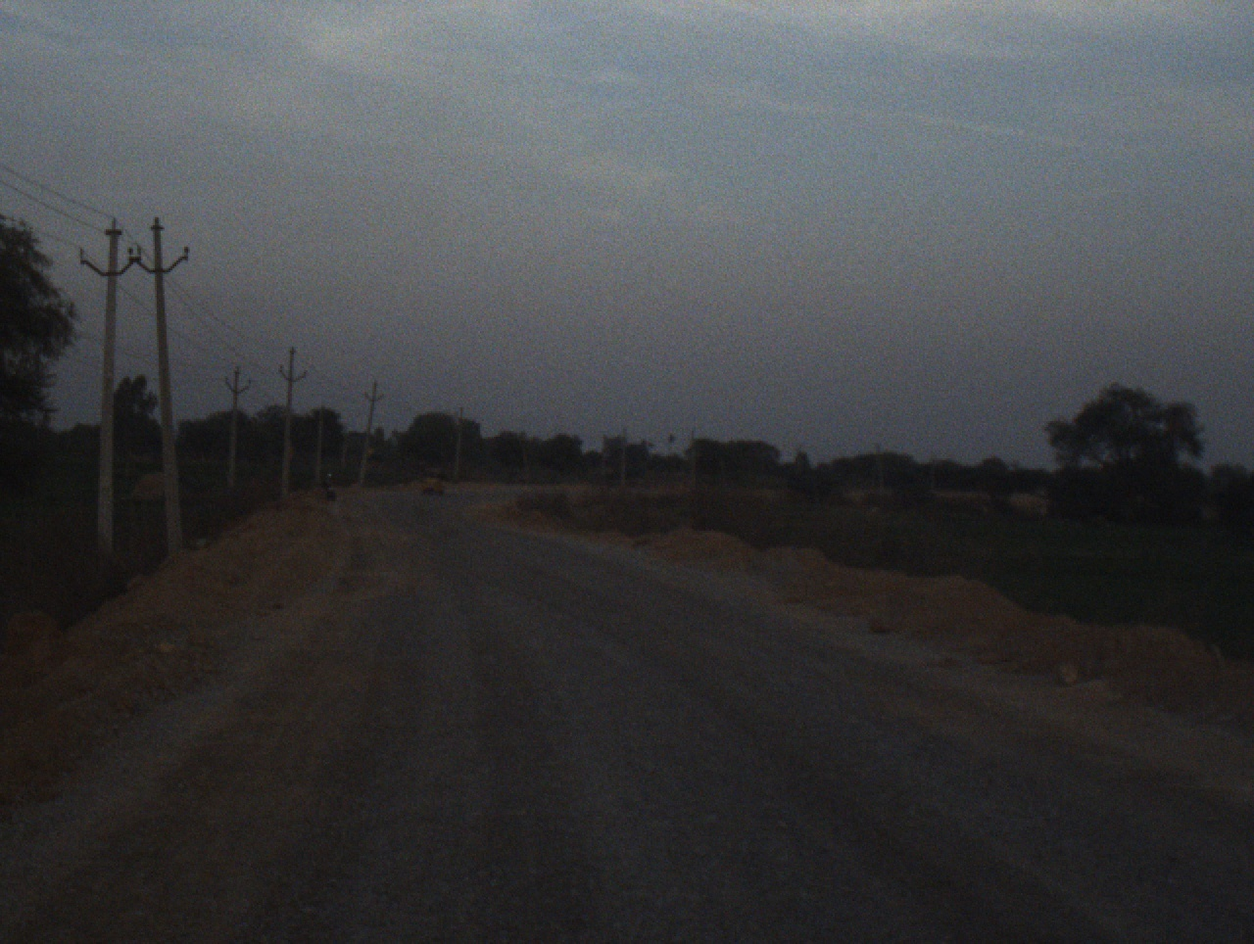autorickshaw: (413, 472, 449, 500)
motorcycle: (322, 470, 334, 497)
